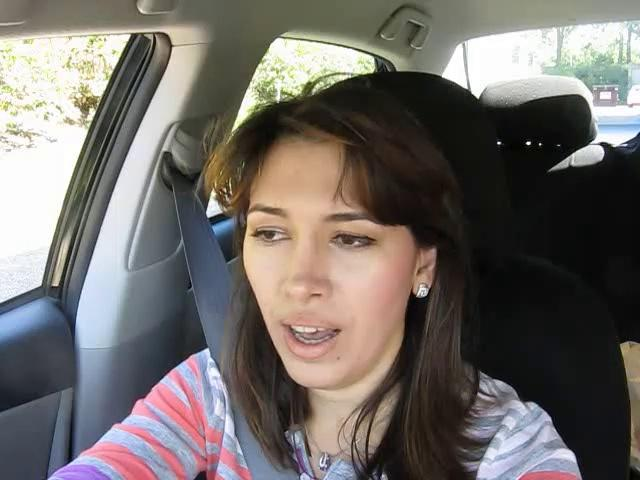open_eyeL: (244, 213, 303, 256)
open_eyeR: (316, 218, 394, 260)
yawn: (268, 310, 357, 361)
